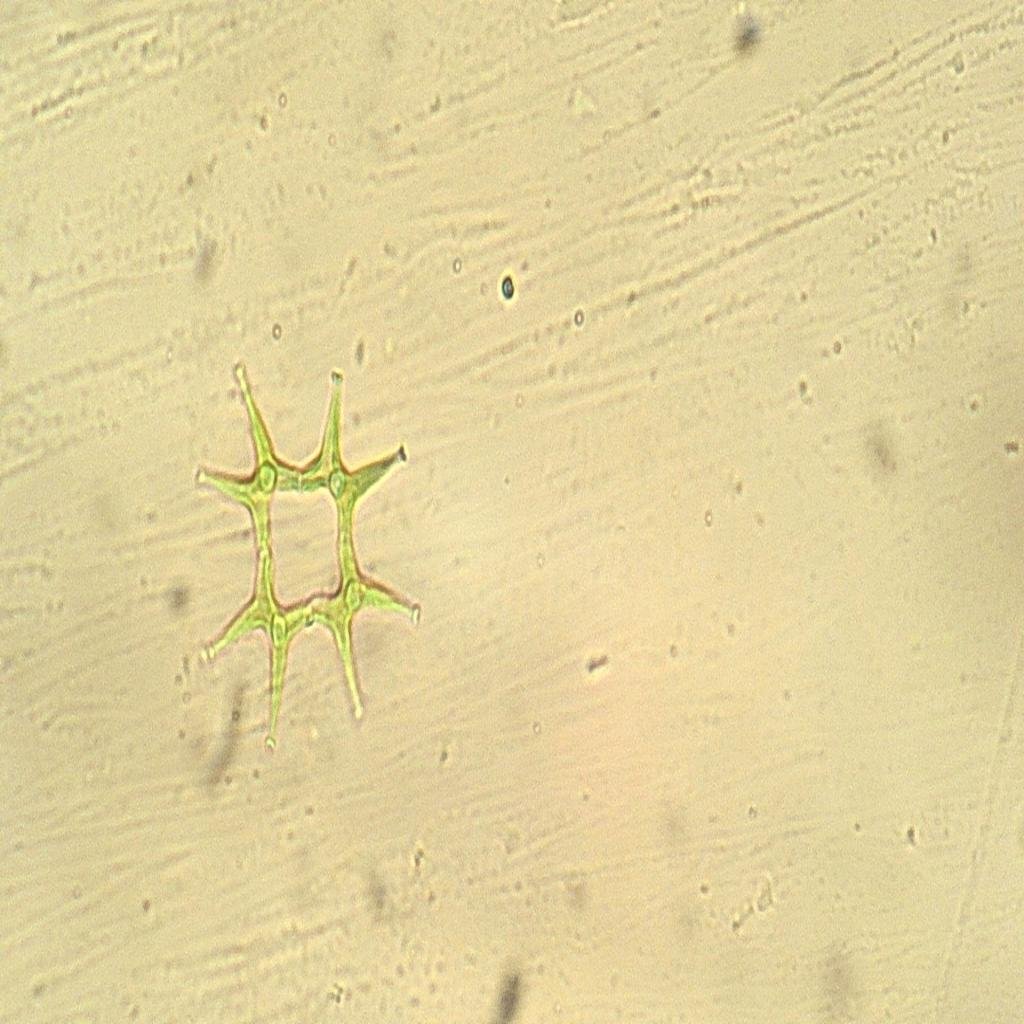Pediastrum_75O: (176, 330, 432, 779)
